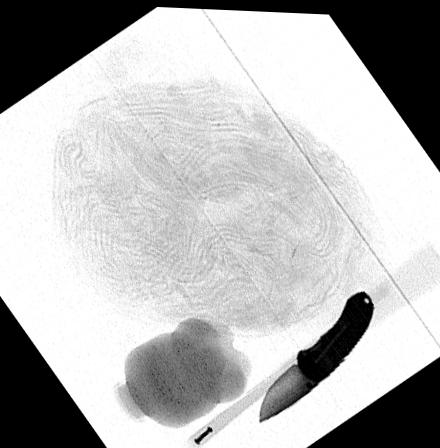Knife: (257, 285, 375, 420)
